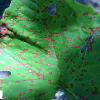grape leaf black rot: (1, 0, 98, 99)
